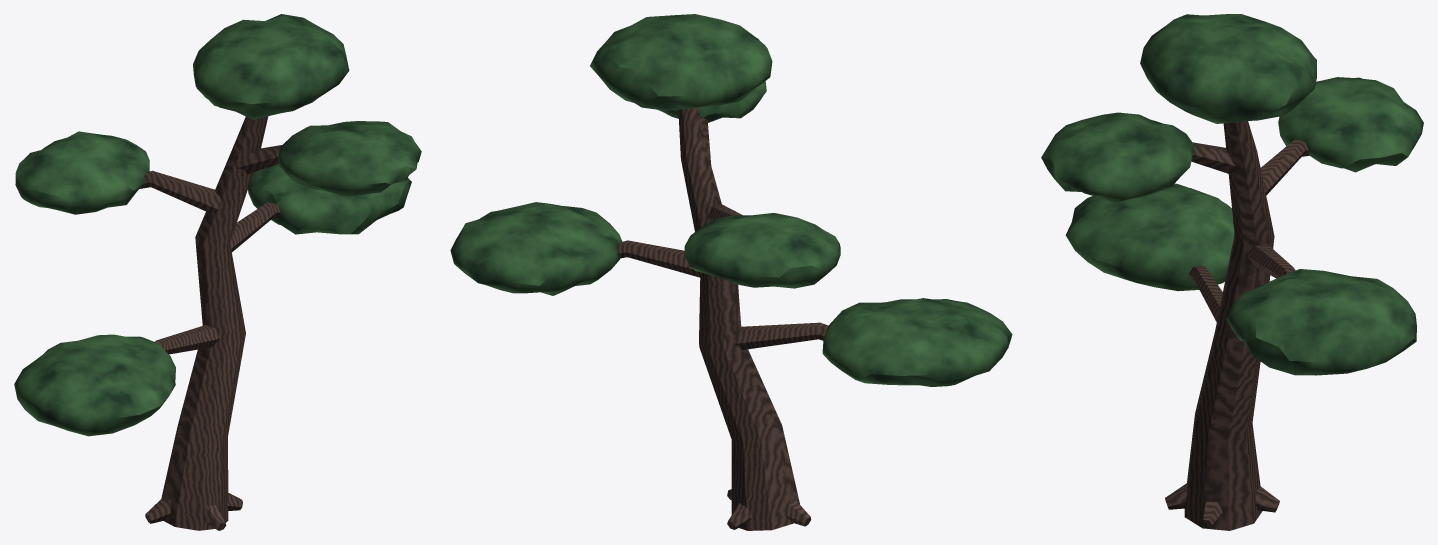
File: pine_tree.fbx
3 views of the same model, side by side, from view 1: azimuth 30°, elevation 25°; view 2: azimuth 150°, elevation 25°; view 3: azimuth 270°, elevation 25° (orthographic). The views are drawn at different scales.
Visible parts, largest first — view 1: pine_tree; view 2: pine_tree; view 3: pine_tree.
Boxes of the visible parts, <box> form: pine_tree: <box>14,14,421,530</box>; pine_tree: <box>450,14,1012,530</box>; pine_tree: <box>1041,14,1423,530</box>.
Size of the model in its own units: 1871 by 1865 by 1223.
Materials: 1 (1 with a texture image).
